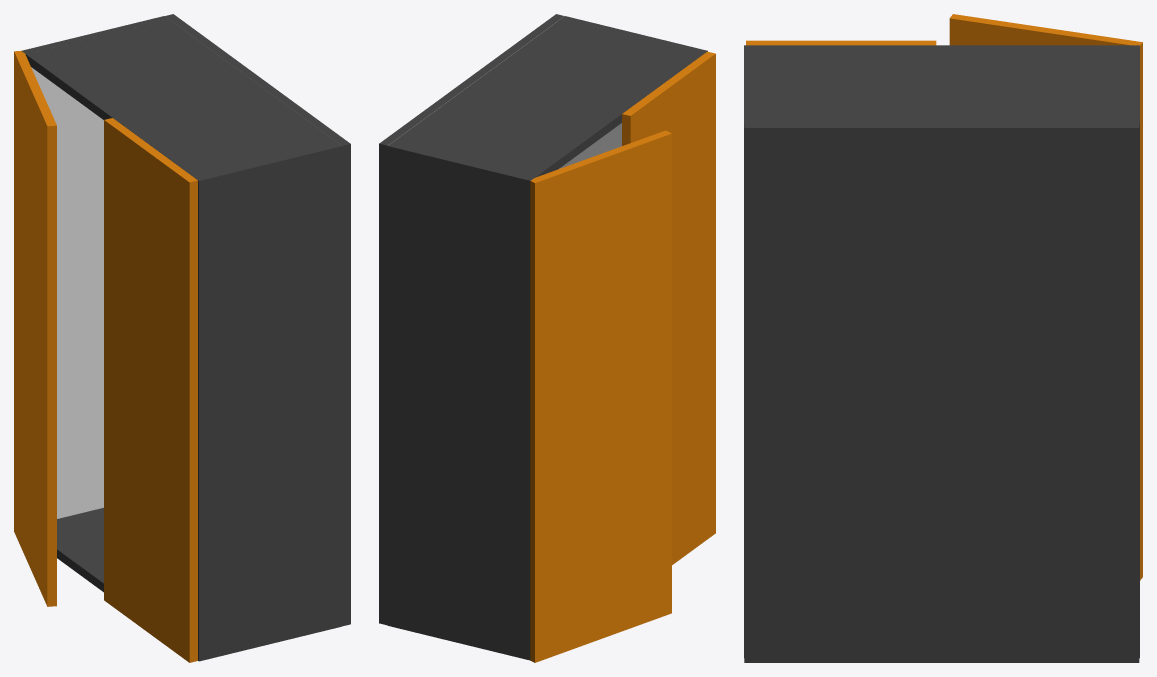
File: Shkaf.fbx
The picture shows the model from 3 angles, left to right: view 1: azimuth 30°, elevation 25°; view 2: azimuth 150°, elevation 25°; view 3: azimuth 270°, elevation 25°; orthographic projection. The views are drawn at different scales.
Parts seen in each view (by area): view 1: Cube; view 2: Cube; view 3: Cube.
Part boxes in pixels (box(x1,y1,x2,y2)): Cube: box(14, 14, 350, 662); Cube: box(379, 14, 715, 662); Cube: box(744, 14, 1142, 662).
Bounding box in the file's own units: 293 × 642 × 433.
